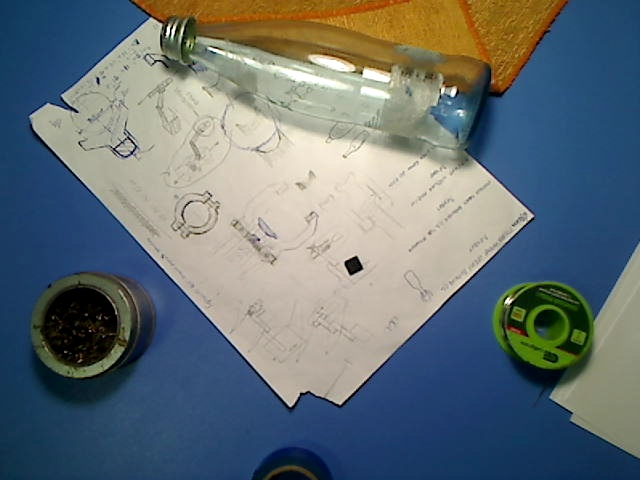bottle: (158, 13, 492, 152)
